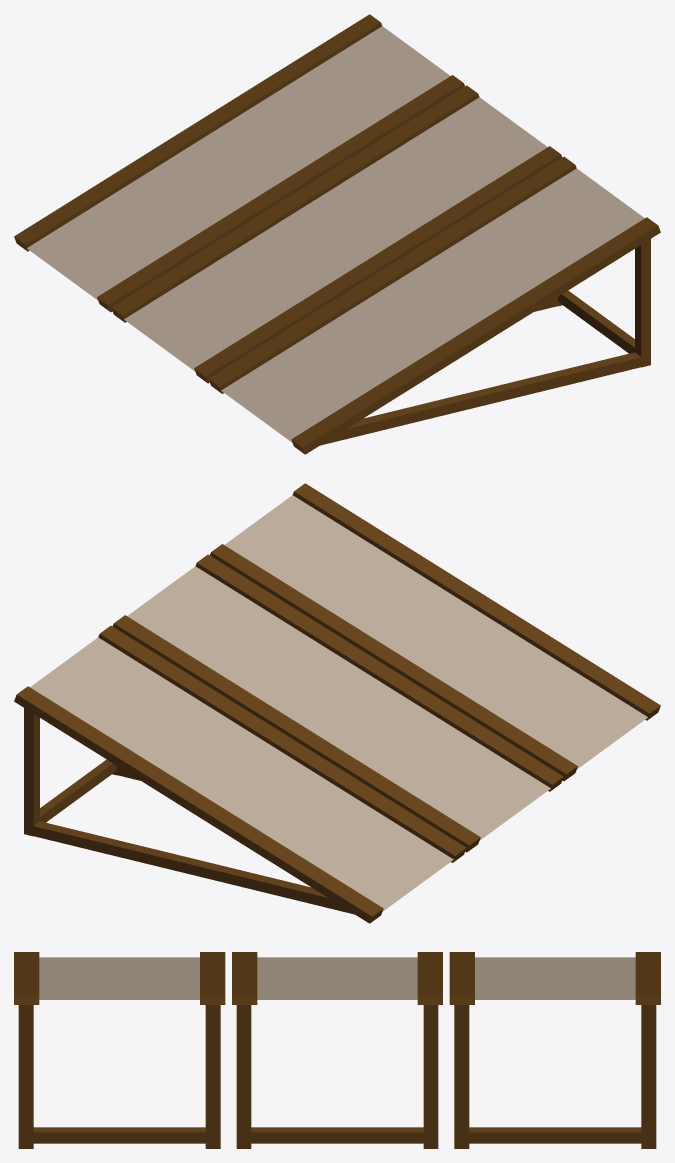
The model's file is plank_1.fbx.
The picture shows the model from 3 angles, top to bottom: view 1: azimuth 30°, elevation 25°; view 2: azimuth 150°, elevation 25°; view 3: azimuth 270°, elevation 25°; orthographic projection. The views are drawn at different scales.
Visible parts, largest first — view 1: plank_1; view 2: plank_1; view 3: plank_1.
Part boxes in pixels (box(x1,y1,x2,y2)): plank_1: box(14, 14, 660, 454); plank_1: box(14, 483, 660, 923); plank_1: box(14, 952, 660, 1148).
Size of the model in its own units: 364 by 139 by 508.
